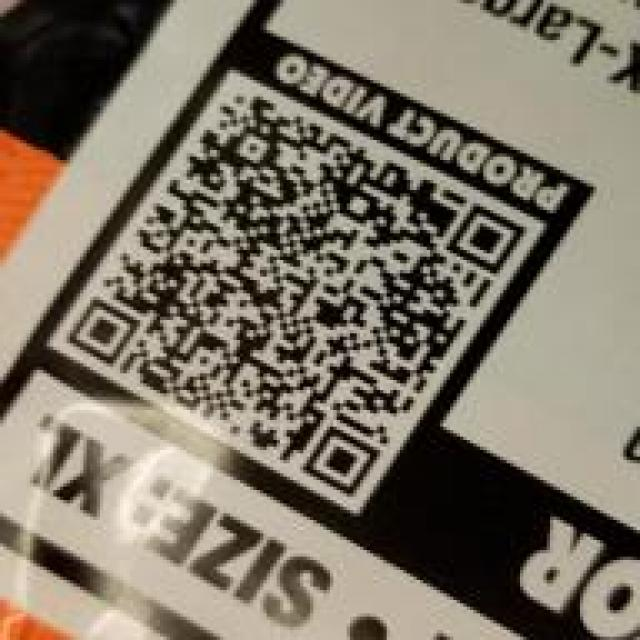QR_CODE: (52, 82, 543, 513)
